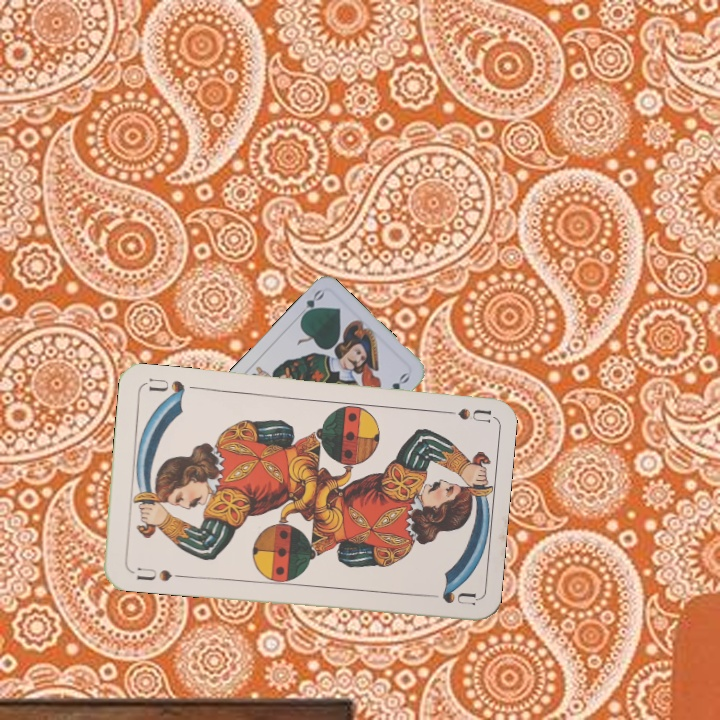GO: (297, 286, 327, 322)
SU: (432, 404, 492, 425), (132, 563, 186, 584)
